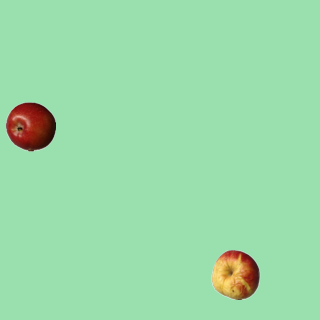Apple Braeburn: (5, 101, 55, 151)
Apple Red Yellow 1: (210, 249, 260, 299)
